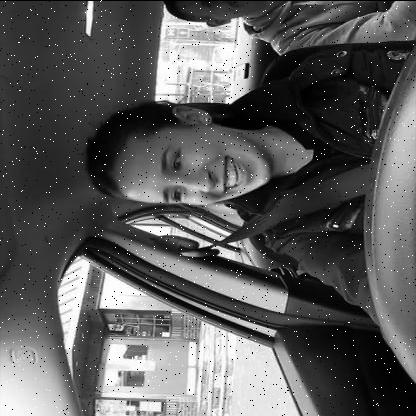seatbelt: (68, 91, 416, 259)
